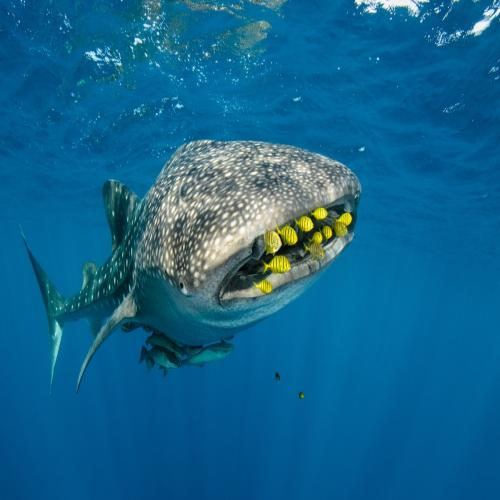shark-endangered: (19, 138, 363, 393)
